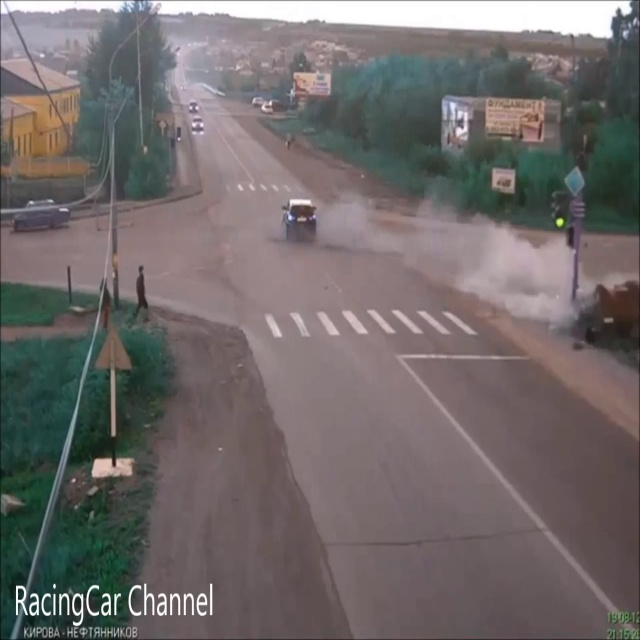acc: (459, 228, 640, 344)
